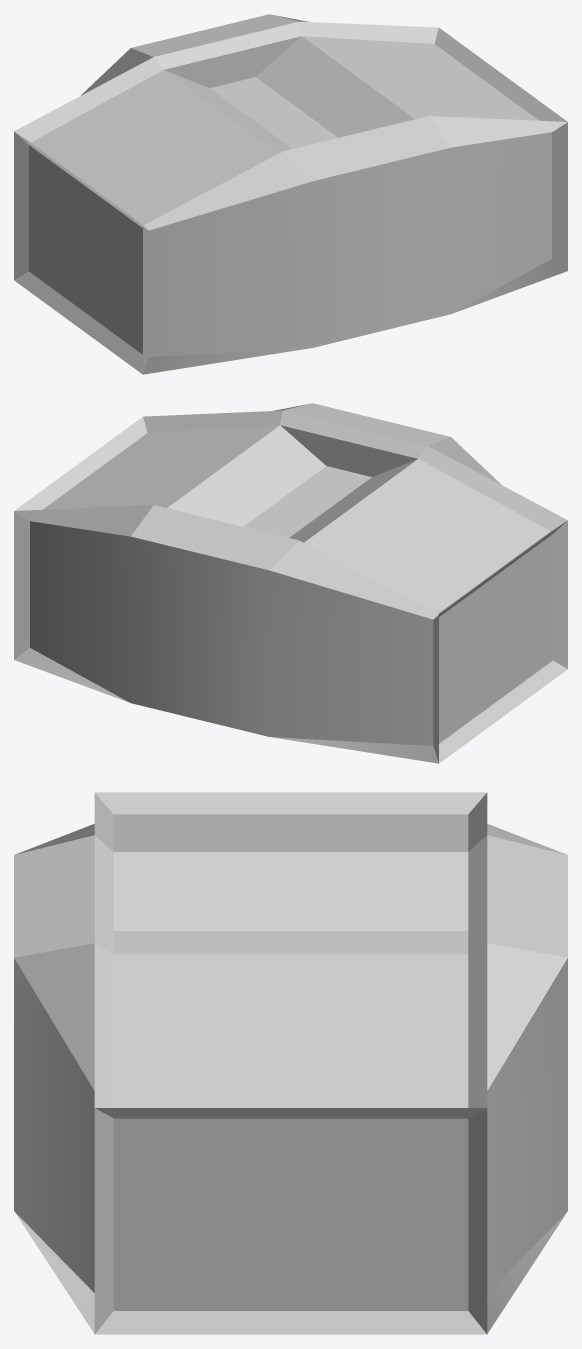
File: container_special_01.fbx
3 views of the same model, one above another, from view 1: azimuth 30°, elevation 25°; view 2: azimuth 150°, elevation 25°; view 3: azimuth 270°, elevation 25° (orthographic). The views are drawn at different scales.
Visible parts, largest first — view 1: container_special_01; view 2: container_special_01; view 3: container_special_01.
Boxes of the visible parts, left/top/right/bottom form: container_special_01: left=14, top=14, right=567, bottom=374; container_special_01: left=14, top=403, right=567, bottom=763; container_special_01: left=14, top=792, right=567, bottom=1334.
Size of the model in its own units: 148 by 62.87 by 110.
